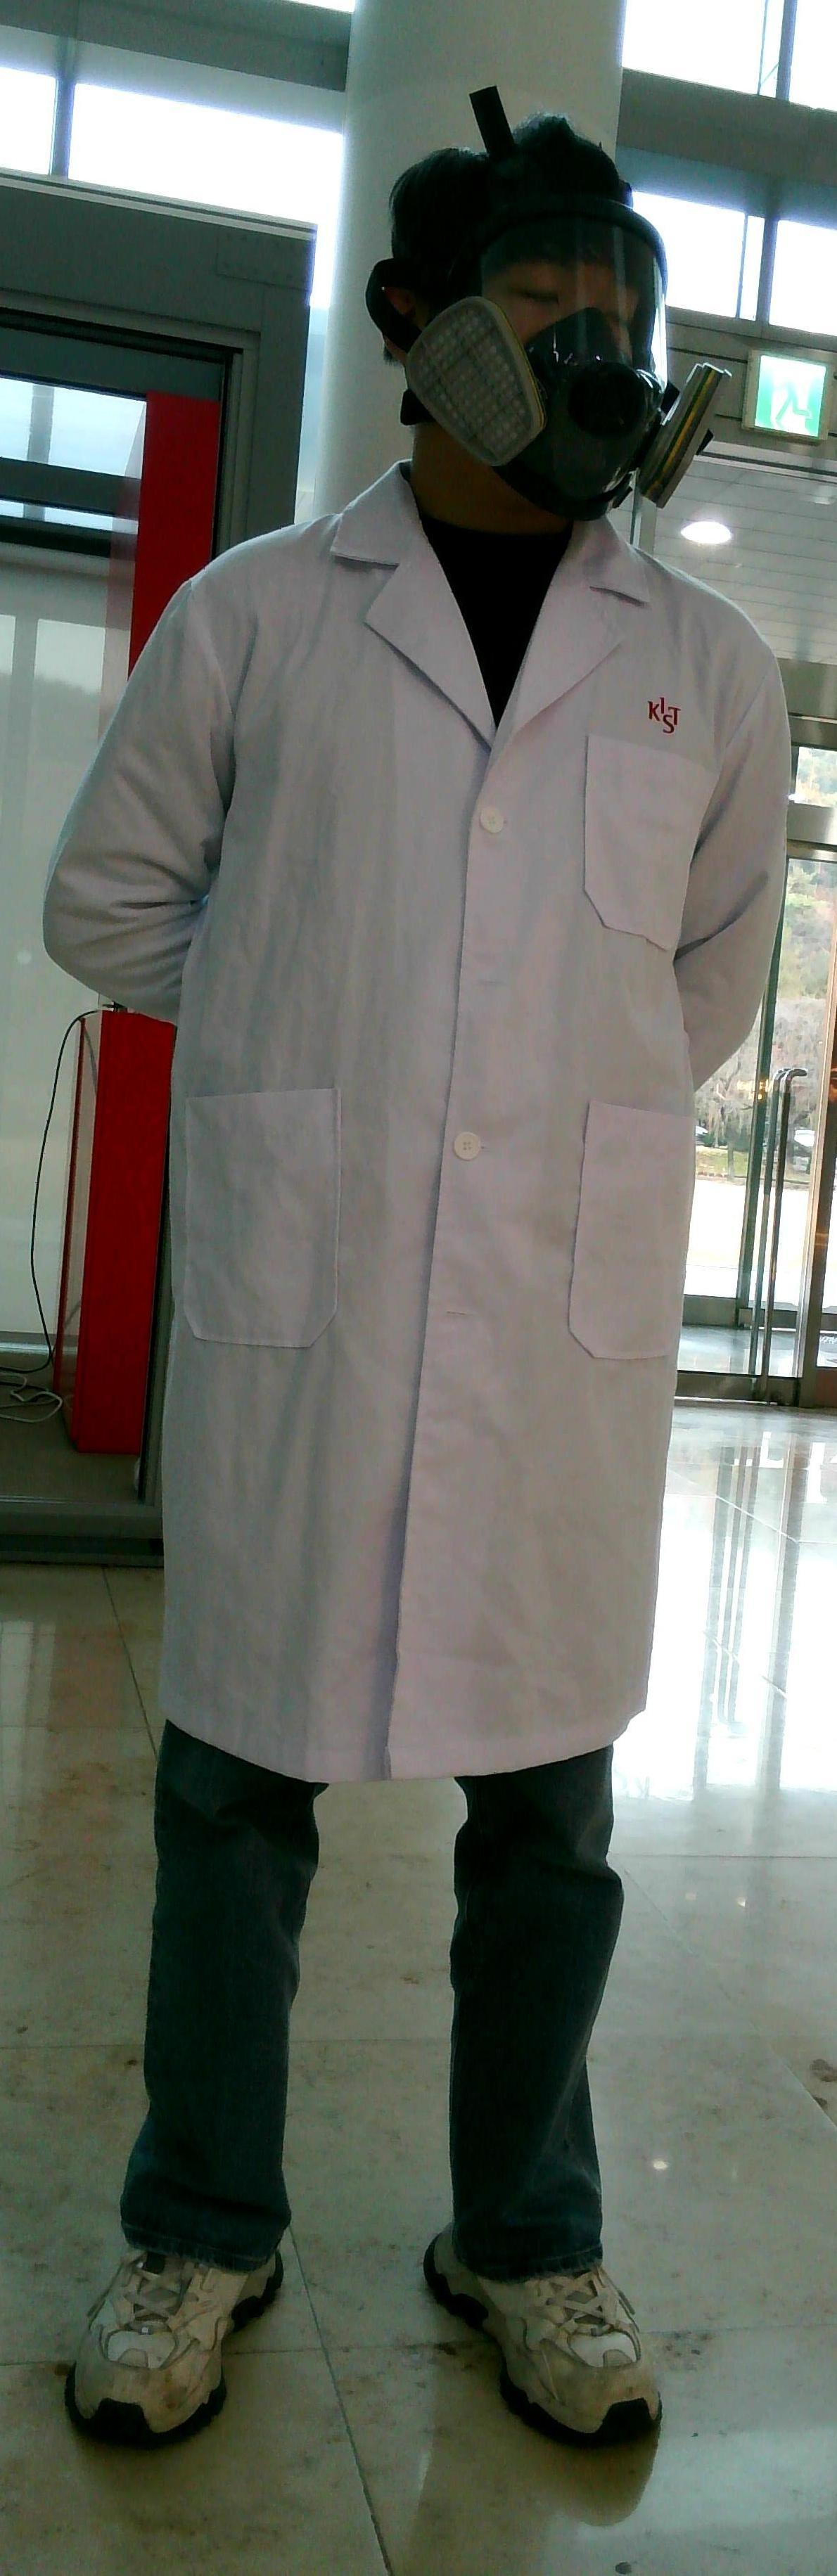lab_coat: (44, 494, 806, 1751)
